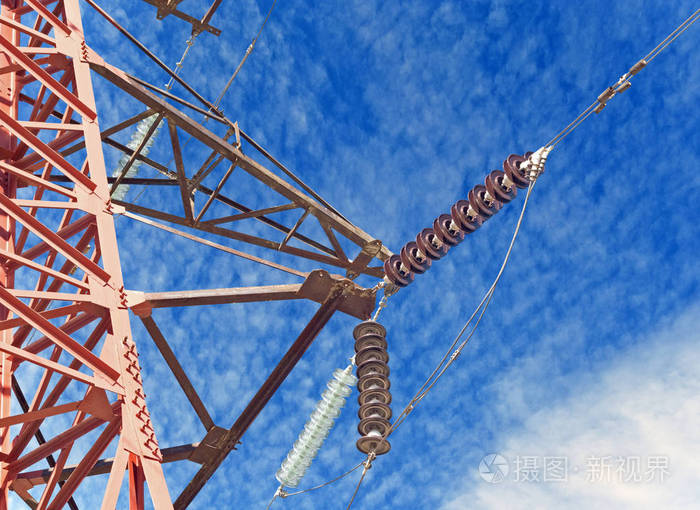insulator: (387, 153, 533, 287), (277, 367, 356, 489), (353, 323, 392, 455), (108, 107, 159, 200)
